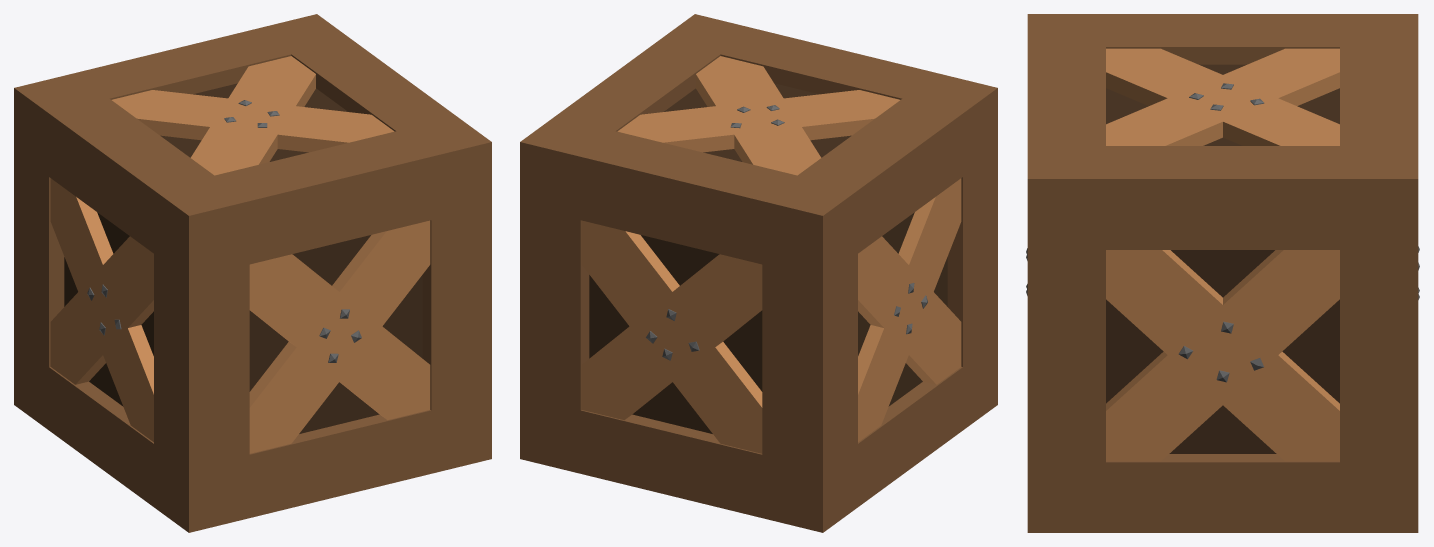
File: GGJ2016_Senseless_Crate.fbx
The picture shows the model from 3 angles, left to right: view 1: azimuth 30°, elevation 25°; view 2: azimuth 150°, elevation 25°; view 3: azimuth 270°, elevation 25°; orthographic projection. The views are drawn at different scales.
Visible parts, largest first — view 1: Basic_Box.001, Plank2.003, Plank1.007, Plank2.007, Plank1.008, Plank1.011, Plank2.008, Plank2.011; view 2: Basic_Box.001, Plank2.003, Plank1.009, Plank2.009, Plank1.008, Plank2.008, Plank2.011, Plank1.011; view 3: Basic_Box.001, Plank2.003, Plank1.010, Plank2.010, Plank1.011, Plank2.011.
Part boxes in pixels (left/top/right/bottom): Basic_Box.001: left=14, top=72, right=491, bottom=532; Plank2.003: left=38, top=14, right=491, bottom=423; Plank1.007: left=249, top=254, right=416, bottom=419; Plank2.007: left=249, top=220, right=430, bottom=453; Plank1.008: left=50, top=178, right=153, bottom=441; Plank1.011: left=190, top=59, right=315, bottom=175; Plank2.008: left=50, top=236, right=153, bottom=384; Plank2.011: left=112, top=90, right=367, bottom=146; Basic_Box.001: left=520, top=14, right=997, bottom=532; Plank2.003: left=520, top=54, right=997, bottom=532; Plank1.009: left=581, top=220, right=762, bottom=453; Plank2.009: left=581, top=254, right=762, bottom=420; Plank1.008: left=858, top=236, right=961, bottom=384; Plank2.008: left=858, top=178, right=961, bottom=440; Plank2.011: left=696, top=61, right=821, bottom=175; Plank1.011: left=646, top=90, right=899, bottom=151; Basic_Box.001: left=1027, top=14, right=1418, bottom=532; Plank2.003: left=1026, top=35, right=1419, bottom=532; Plank1.010: left=1106, top=250, right=1339, bottom=461; Plank2.010: left=1106, top=250, right=1339, bottom=461; Plank1.011: left=1106, top=48, right=1339, bottom=145; Plank2.011: left=1106, top=48, right=1339, bottom=145.
Bounding box in the file's own units: 202 × 202 × 202.
